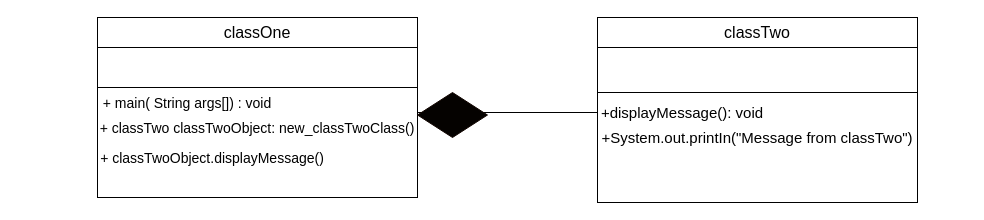
Some shapes in this 984 by 220 pixel diagram are drawn without their labels. The shapes that lost their labels are listed below. From the top down, each one's box as (x1, y1, x2, y2) in pixels, then its label:
(96, 46, 418, 88): + classOne
(596, 46, 918, 92): + classTwo
